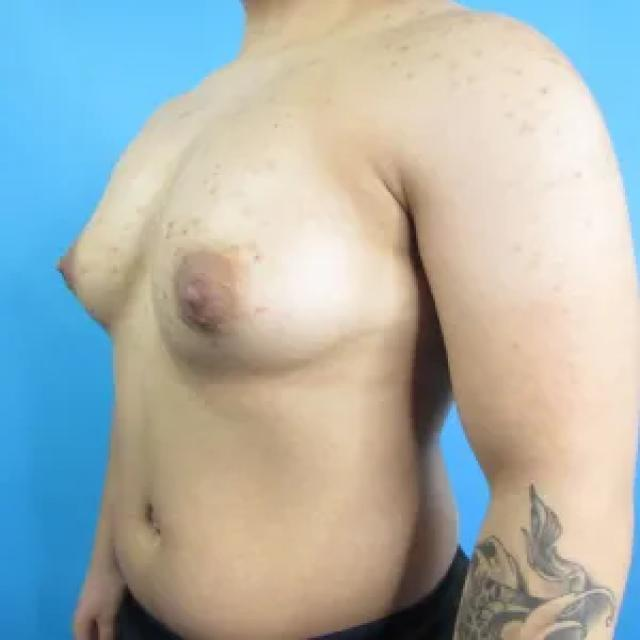Seno ileso: (150, 135, 411, 399), (47, 135, 147, 356)
